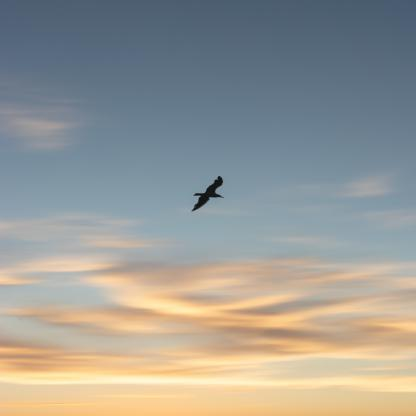bird: (192, 176, 224, 212)
